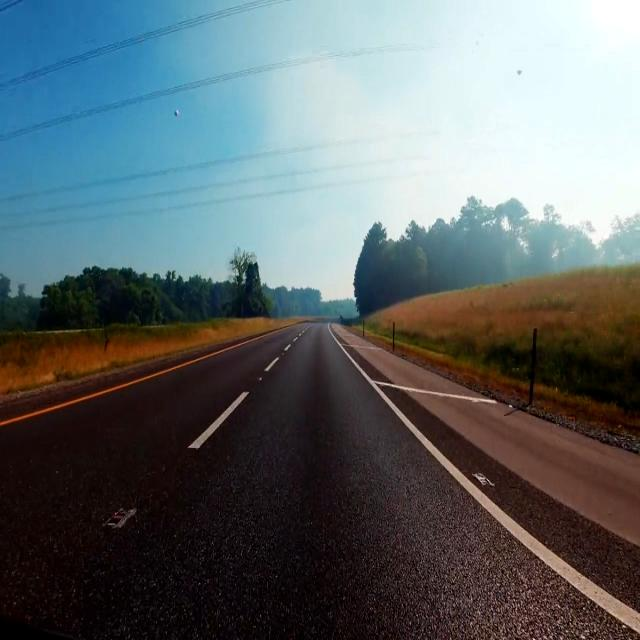road: (0, 324, 636, 637), (384, 388, 640, 610)
